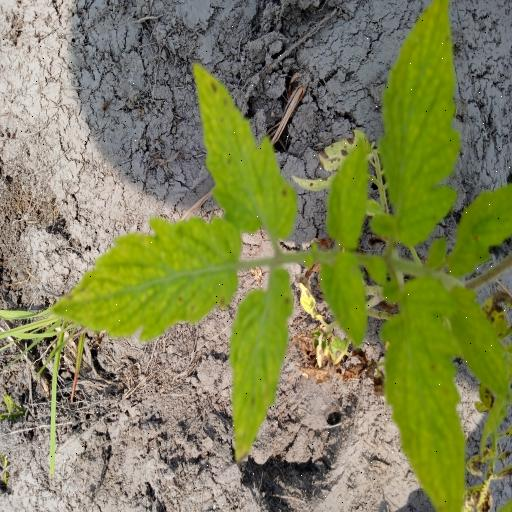Tomato_Brown_Spots: (40, 200, 246, 351)
